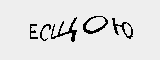Е: (25, 21, 39, 40)
О: (81, 13, 107, 34)
С: (39, 21, 51, 41)
Щ: (50, 15, 78, 41)
Ю: (110, 17, 134, 40)
